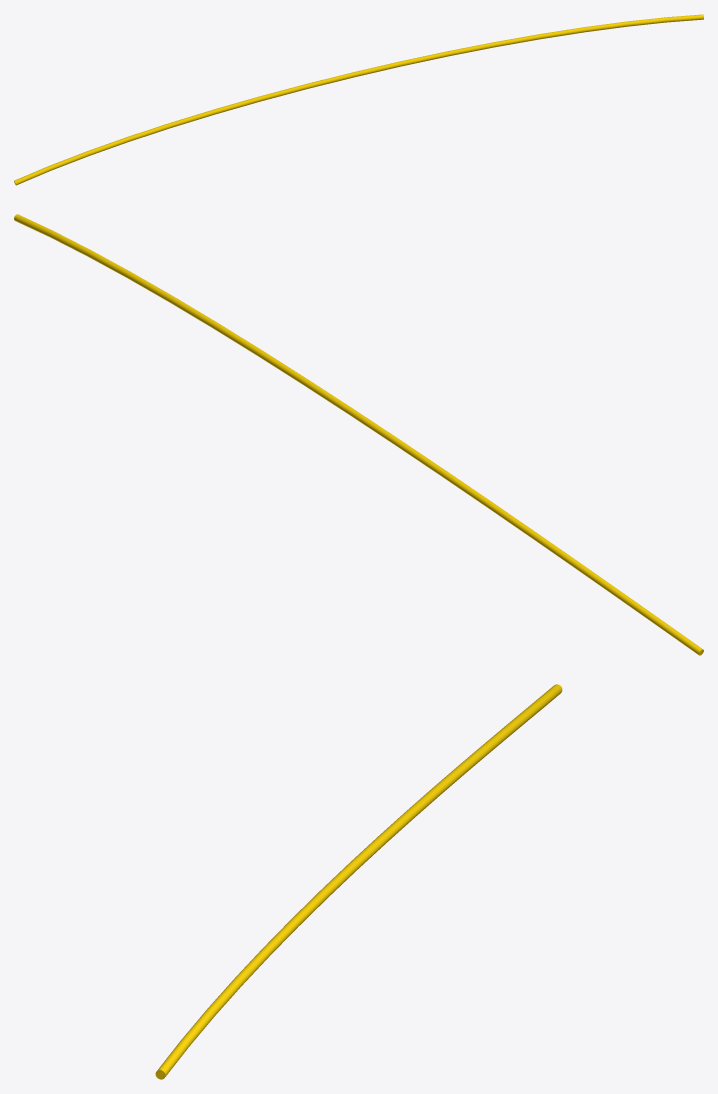
Rendered from Event_421115418_track_93.fbx.
3 views of the same model, one above another, from view 1: azimuth 30°, elevation 25°; view 2: azimuth 150°, elevation 25°; view 3: azimuth 270°, elevation 25° (orthographic). The views are drawn at different scales.
Visible parts, largest first — view 1: Model; view 2: Model; view 3: Model.
Boxes of the visible parts, x1,y1,x2,y2 form: Model: (14, 14, 703, 185); Model: (14, 214, 703, 655); Model: (155, 684, 562, 1079).
Bounding box in the file's own units: 5.19 × 0.838 × 1.55.
